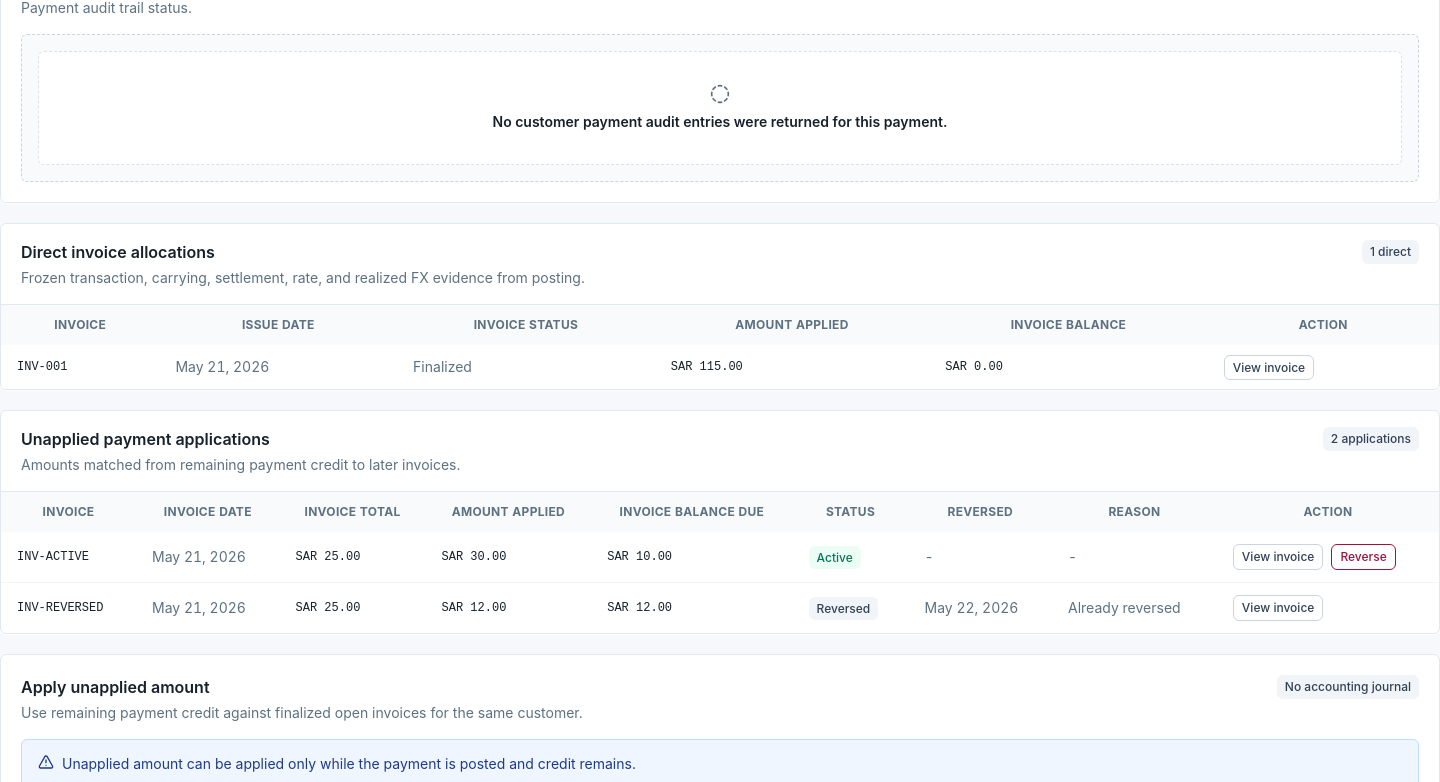
customer payment workflow guidance › reverses an active unapplied allocation with confirmation, reason, and detail refresh
The image size is (1440, 782).
(page scrolled)
Expected: the text "INV-ACTIVE" is shown, [17,550,89,564]
Expected: the text "INV-REVERSED" is shown, [17,601,103,615]
Click the button "Reverse".
click(1364, 557)  # box [1331,544,1396,570]
(page scrolled)
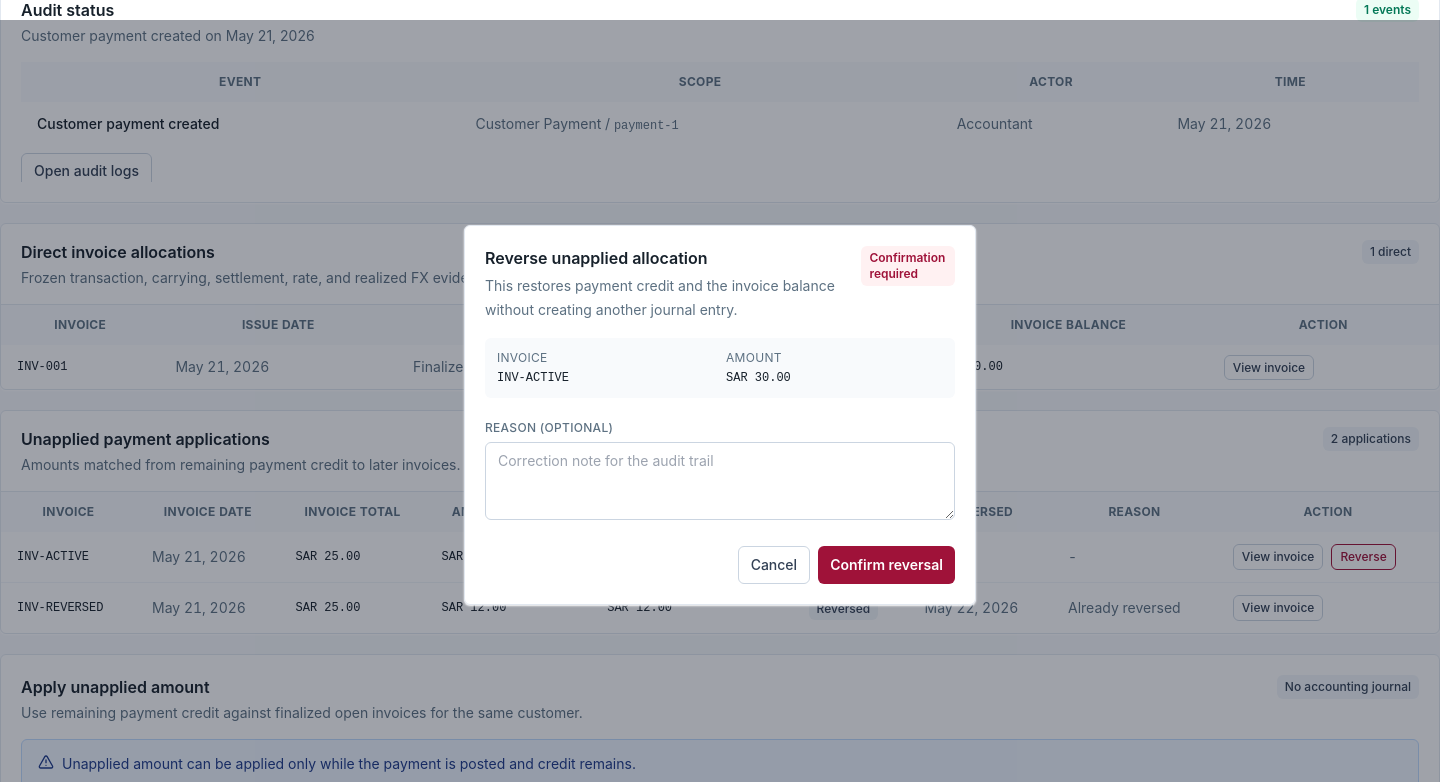
Result: the dialog "Reverse unapplied allocation" is shown at [464,225,976,605]
Result: the text "restores payment credit" is shown at [485,277,835,318]
Type "Wrong invoice" into the text box labelled "Reason (optional)".
click(720, 481); type("Wrong invoice")  # box [485,442,955,520]
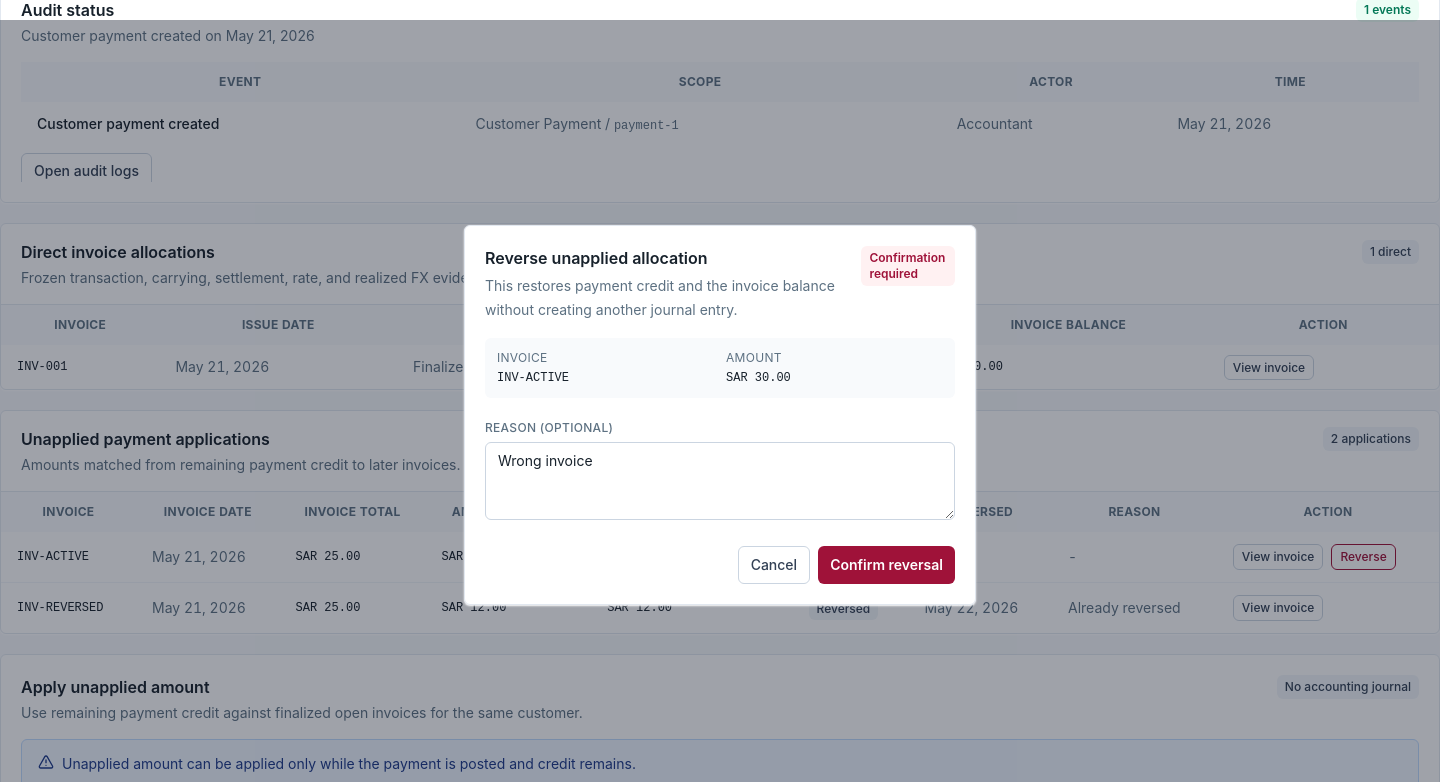
Click the button "Confirm reversal".
click(887, 565)  # box [818,546,955,584]
(page scrolled)
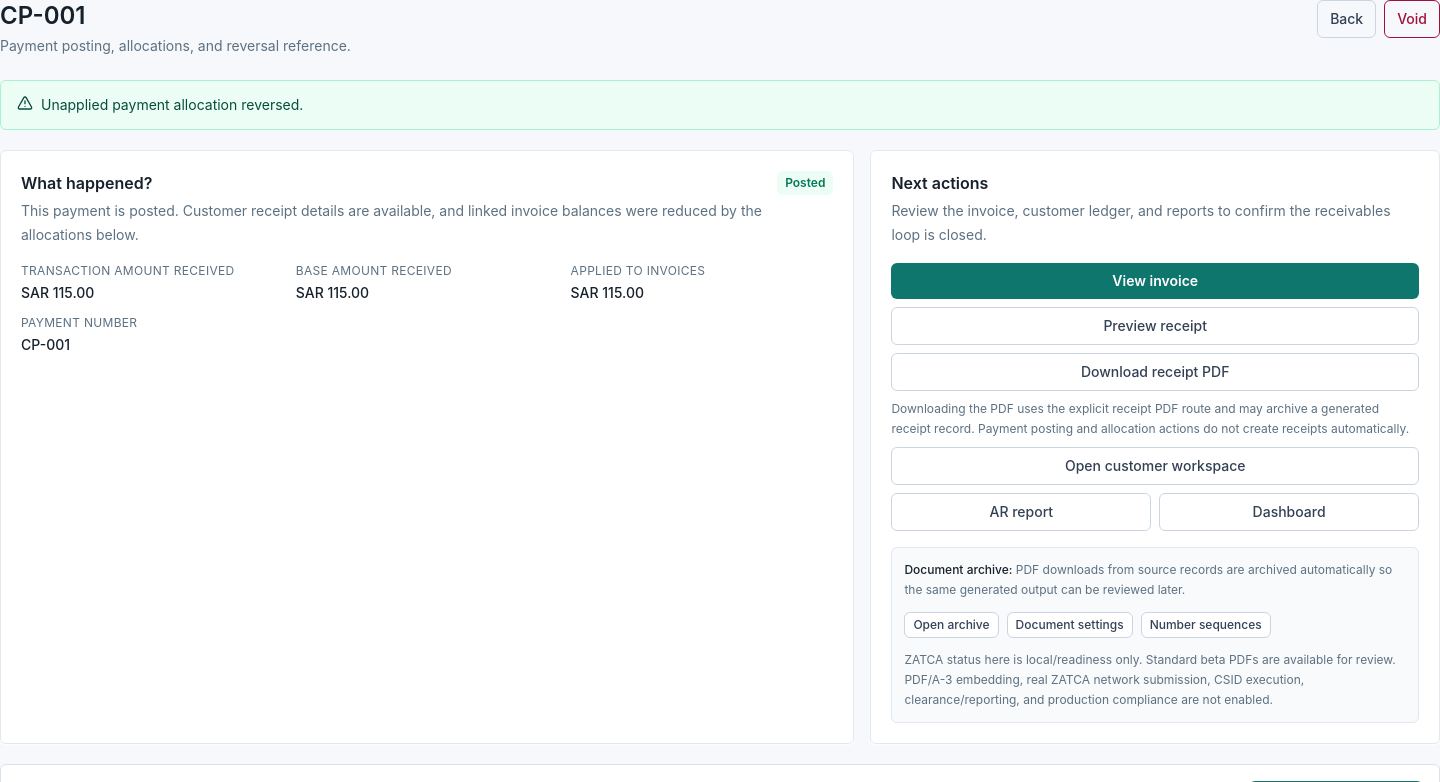
Result: the text "Unapplied payment allocation reversed." is shown at [41,93,303,117]
Result: the heading "Reverse unapplied allocation" is gone
